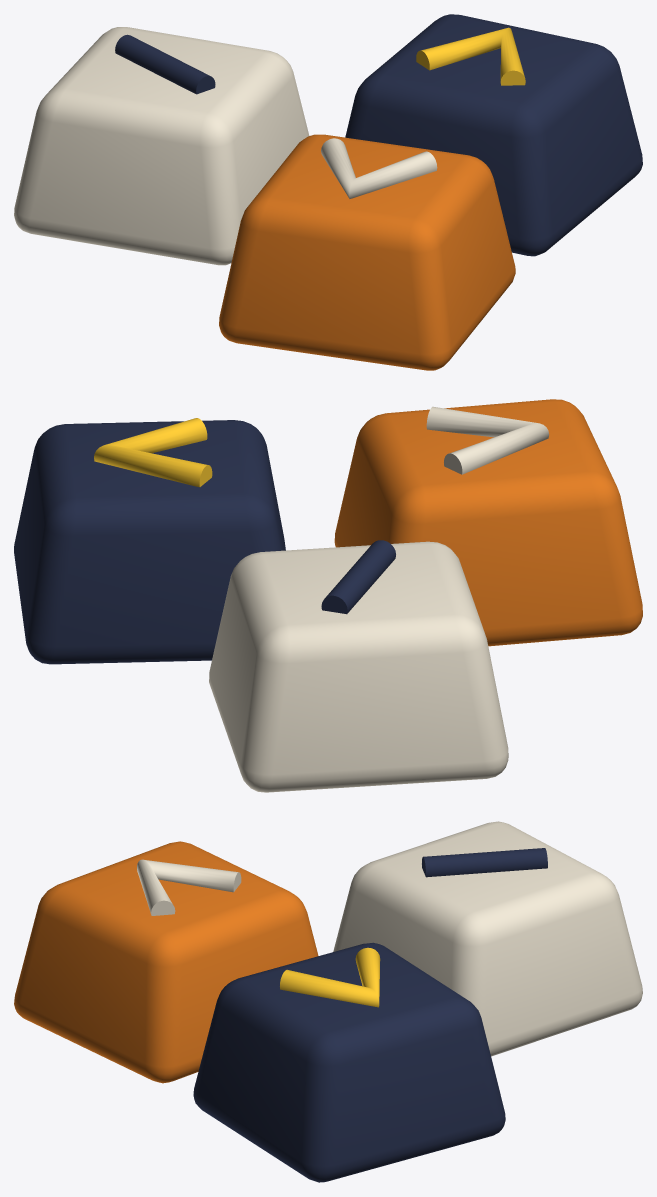
Rendered from high_school-computer-science.glb.
The picture shows the model from 3 angles, top to bottom: view 1: azimuth 30°, elevation 25°; view 2: azimuth 150°, elevation 25°; view 3: azimuth 270°, elevation 25°; orthographic projection. The views are drawn at different scales.
Visible parts, largest first — view 1: Cube, Cube.001, Cube.002, tube, tube.002, tube.001; view 2: Cube.001, Cube.002, Cube, tube.002, tube, tube.001; view 3: Cube.002, Cube, Cube.001, tube, tube.002, tube.001.
Boxes of the visible parts, bbox=[...] form: Cube: bbox=[219, 134, 515, 370]; Cube.001: bbox=[14, 27, 309, 265]; Cube.002: bbox=[345, 14, 642, 256]; tube: bbox=[321, 138, 437, 198]; tube.002: bbox=[416, 27, 525, 85]; tube.001: bbox=[115, 34, 215, 94]; Cube.001: bbox=[209, 541, 508, 792]; Cube.002: bbox=[14, 420, 285, 664]; Cube: bbox=[334, 399, 642, 646]; tube.002: bbox=[94, 418, 212, 487]; tube: bbox=[426, 406, 549, 474]; tube.001: bbox=[321, 540, 395, 614]; Cube.002: bbox=[193, 942, 505, 1182]; Cube: bbox=[14, 841, 318, 1083]; Cube.001: bbox=[333, 821, 642, 1056]; tube: bbox=[137, 859, 241, 915]; tube.002: bbox=[280, 947, 380, 1007]; tube.001: bbox=[422, 848, 547, 877].
Bounding box in the file's own units: 2.43 × 0.665 × 2.55.
